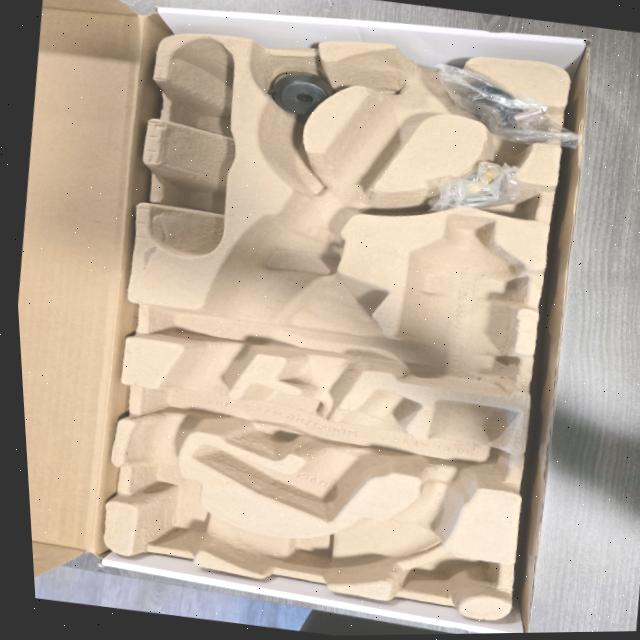1m: (130, 46, 517, 585)
2m: (196, 389, 423, 519)
3m: (397, 214, 526, 396)
4m: (145, 39, 234, 255)
5: (269, 70, 332, 117)
6: (421, 160, 517, 210)
7: (430, 61, 578, 145)
